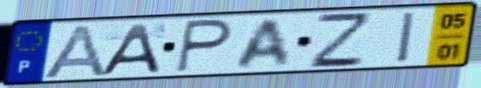A: (38, 22, 110, 81), (95, 21, 163, 77), (232, 17, 293, 71)
I: (395, 10, 419, 65)
P: (173, 17, 236, 74)
Z: (308, 12, 372, 71)
